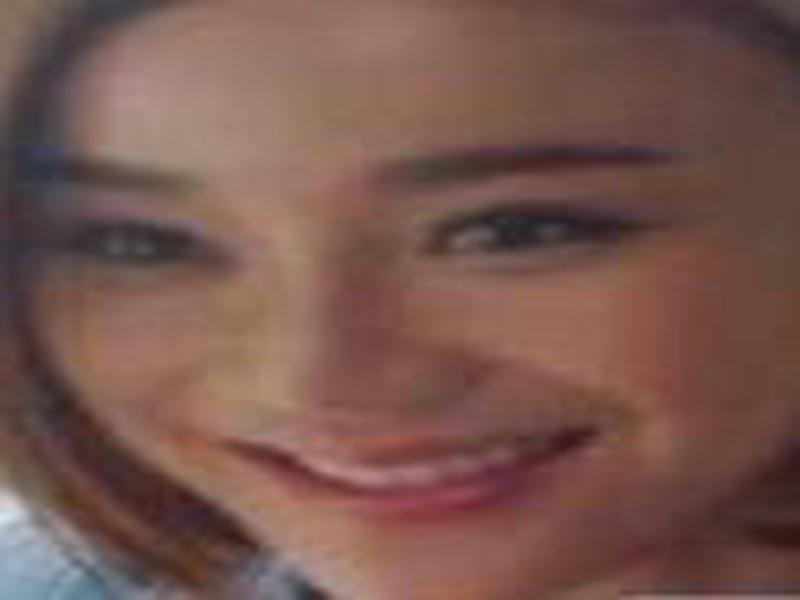without_mask: (21, 62, 800, 600)
